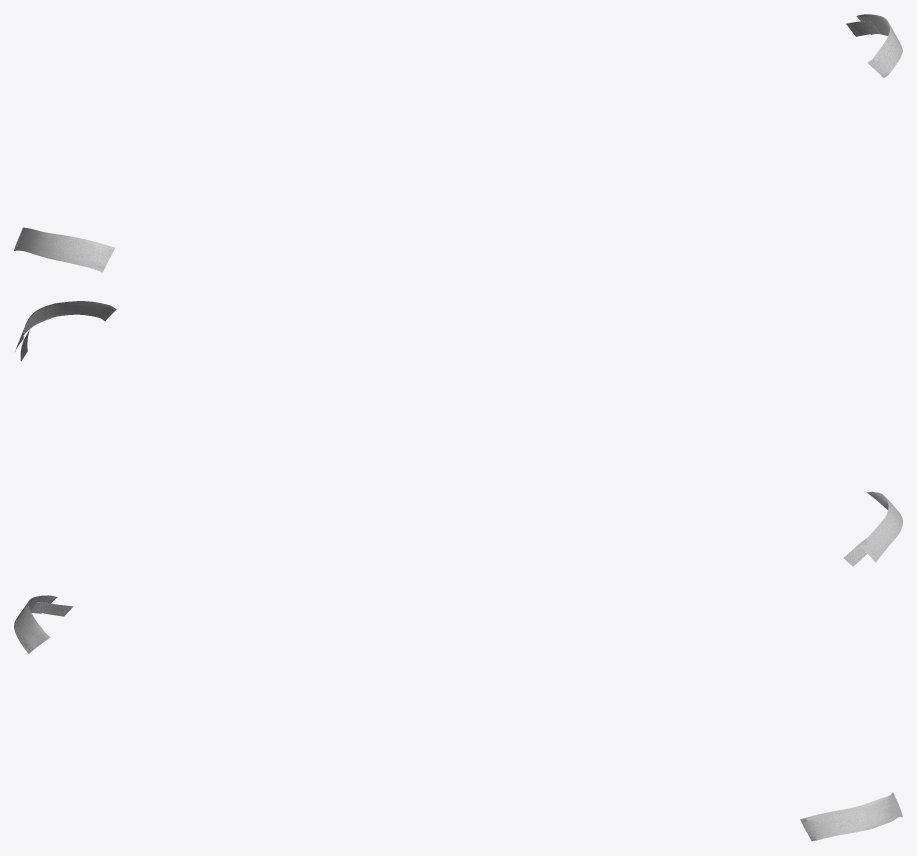
Rendered from Strap_Hands.glb.
The picture shows the model from 3 angles, top to bottom: view 1: azimuth 30°, elevation 25°; view 2: azimuth 150°, elevation 25°; view 3: azimuth 330°, elevation 25°; orthographic projection.
Parts seen in each view (by area): view 1: Strap_Hands1, Rope1; view 2: Strap_Hands1; view 3: Strap_Hands1, Rope1.
Boxes of the visible parts, box(x1,y1,x2,y2) form: Strap_Hands1: box(14, 14, 902, 272); Rope1: box(14, 18, 902, 271); Strap_Hands1: box(16, 301, 902, 562); Strap_Hands1: box(14, 595, 902, 841); Rope1: box(14, 601, 902, 840).
Size of the model in its own units: 1.7 by 0.071 by 0.2056.
3 materials, 3 textured.
